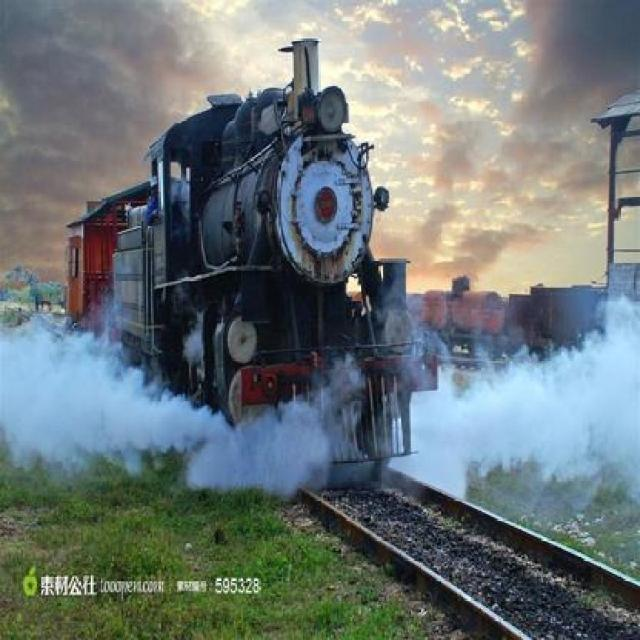Smoke: (10, 322, 640, 498)
